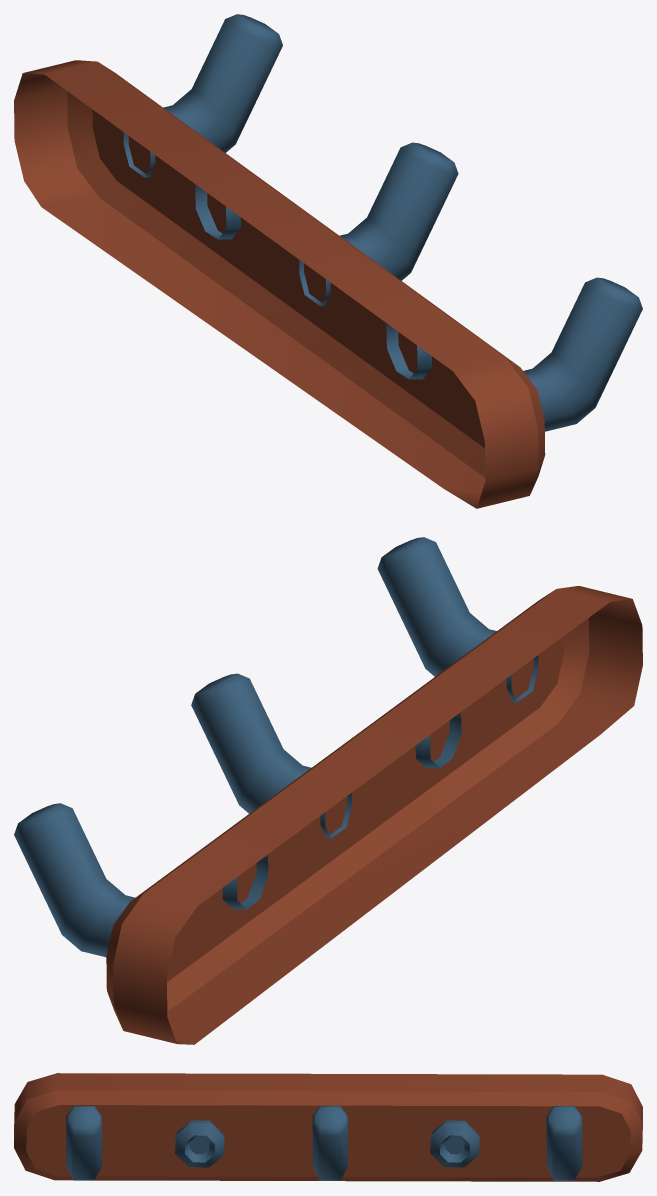
File: Dresser.fbx
3 views of the same model, one above another, from view 1: azimuth 30°, elevation 25°; view 2: azimuth 150°, elevation 25°; view 3: azimuth 270°, elevation 25° (orthographic). The views are drawn at different scales.
Visible parts, largest first — view 1: Dress; view 2: Dress; view 3: Dress.
Part boxes in pixels (x1,y1,x2,y2): Dress: (14,14,642,508); Dress: (14,537,642,1044); Dress: (14,1073,642,1181).
Bounding box in the file's own units: 1.25 × 0.9979 × 5.03.
